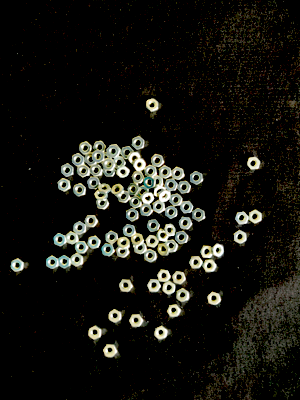nut: (10, 258, 25, 273), (103, 344, 118, 358), (176, 288, 190, 303), (147, 279, 162, 293), (73, 183, 87, 198), (79, 141, 93, 156), (88, 326, 102, 340), (154, 326, 168, 340), (167, 304, 181, 318), (207, 292, 221, 306), (157, 269, 171, 283), (172, 271, 186, 285), (235, 212, 249, 226), (101, 243, 115, 257), (53, 233, 67, 247), (117, 237, 131, 251), (156, 229, 170, 243), (147, 219, 161, 233), (192, 208, 206, 222), (133, 158, 147, 172), (116, 165, 130, 179), (71, 153, 85, 167), (129, 315, 144, 328), (212, 243, 225, 258), (234, 230, 247, 245), (178, 217, 193, 230), (86, 177, 101, 190), (61, 163, 74, 178), (132, 136, 145, 151), (109, 309, 122, 323), (119, 280, 133, 293), (189, 256, 203, 269), (203, 260, 217, 273), (249, 210, 262, 224), (247, 157, 261, 170), (46, 256, 59, 270), (75, 241, 89, 254), (87, 236, 101, 249), (66, 232, 79, 246), (73, 221, 86, 235), (84, 215, 98, 228), (106, 231, 119, 245), (144, 249, 157, 263), (131, 234, 145, 247), (123, 224, 137, 237), (146, 235, 159, 249), (165, 240, 179, 253), (175, 232, 189, 245), (126, 208, 139, 222), (140, 204, 154, 217), (165, 206, 178, 220), (180, 201, 194, 214), (129, 196, 142, 210), (58, 178, 71, 192), (177, 181, 191, 194), (172, 167, 185, 181), (151, 154, 164, 168), (127, 152, 141, 165), (77, 165, 91, 178), (121, 146, 134, 160), (92, 150, 105, 164), (106, 145, 120, 158), (146, 99, 159, 113), (133, 243, 148, 255), (94, 190, 109, 202), (163, 282, 176, 295), (200, 246, 213, 259), (58, 256, 71, 269), (71, 254, 84, 267), (157, 244, 170, 257), (163, 224, 176, 237), (170, 194, 183, 207), (158, 190, 171, 203), (128, 183, 141, 196), (190, 172, 203, 185), (165, 179, 178, 192), (159, 166, 172, 179), (85, 153, 98, 166), (116, 247, 130, 259), (153, 200, 165, 214), (141, 192, 155, 204), (131, 172, 145, 184), (102, 159, 116, 171), (95, 199, 110, 210), (117, 191, 130, 203), (112, 184, 124, 197), (153, 186, 166, 198), (144, 176, 156, 189), (152, 176, 164, 189), (145, 165, 158, 177), (103, 165, 116, 177), (90, 165, 103, 177), (113, 157, 126, 169), (99, 153, 112, 165), (93, 141, 106, 153), (138, 186, 150, 198), (98, 184, 112, 194)
